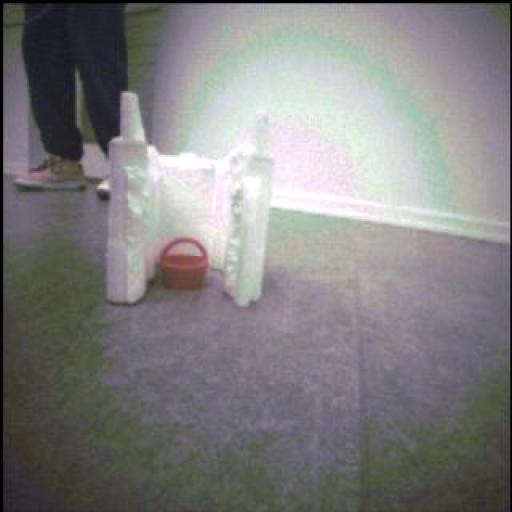Bucket: (161, 238, 209, 291)
